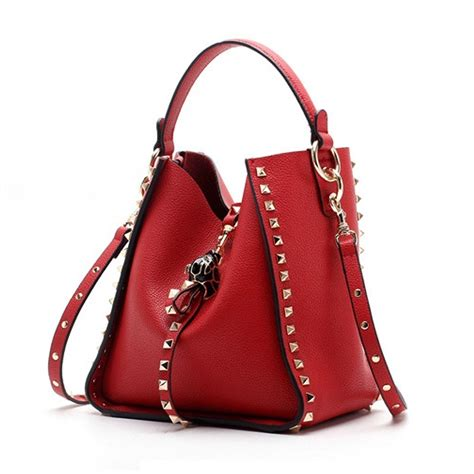cuero: (48, 38, 406, 434)
